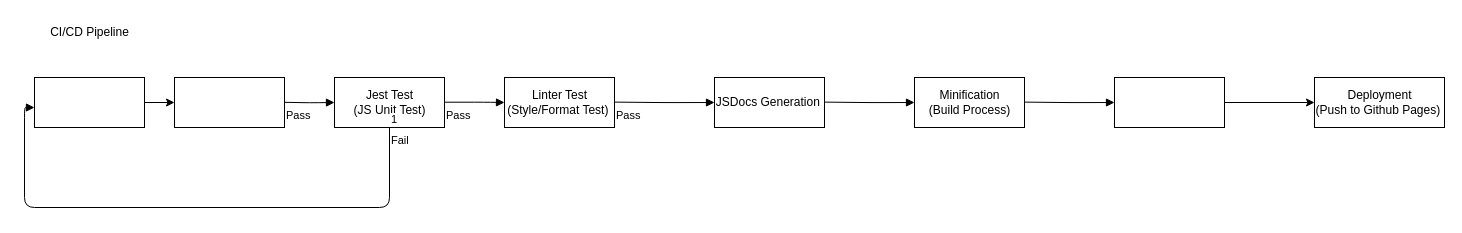
This 1462x233 diagram has some shape labels left out. The shapes that lost their labels are listed below. From the top down, each one's centre as x and y in pixels, then its label:
At pixel 89 102: "Code on Local".
At pixel 229 102: "Git Push".
At pixel 1169 102: "Image Compression".
